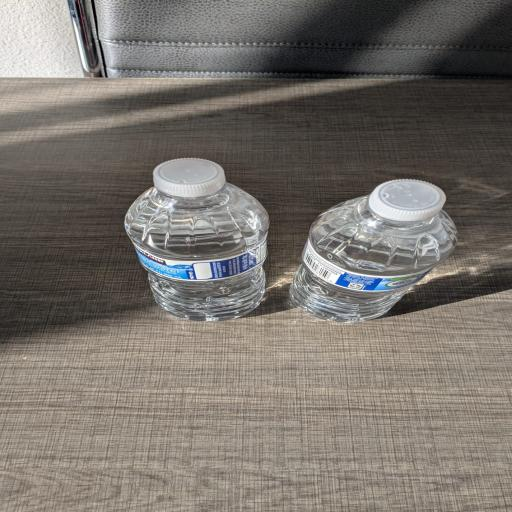waterbottle: (290, 180, 456, 322), (126, 159, 268, 320)
